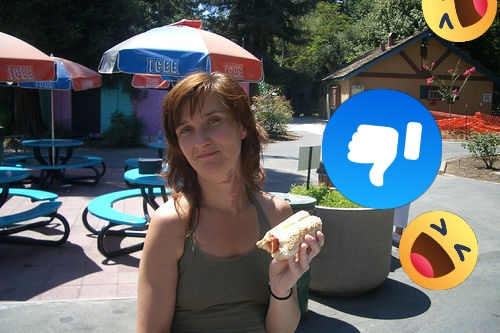haha: (399, 211, 478, 290), (422, 0, 497, 42)
like: (322, 89, 442, 209)
